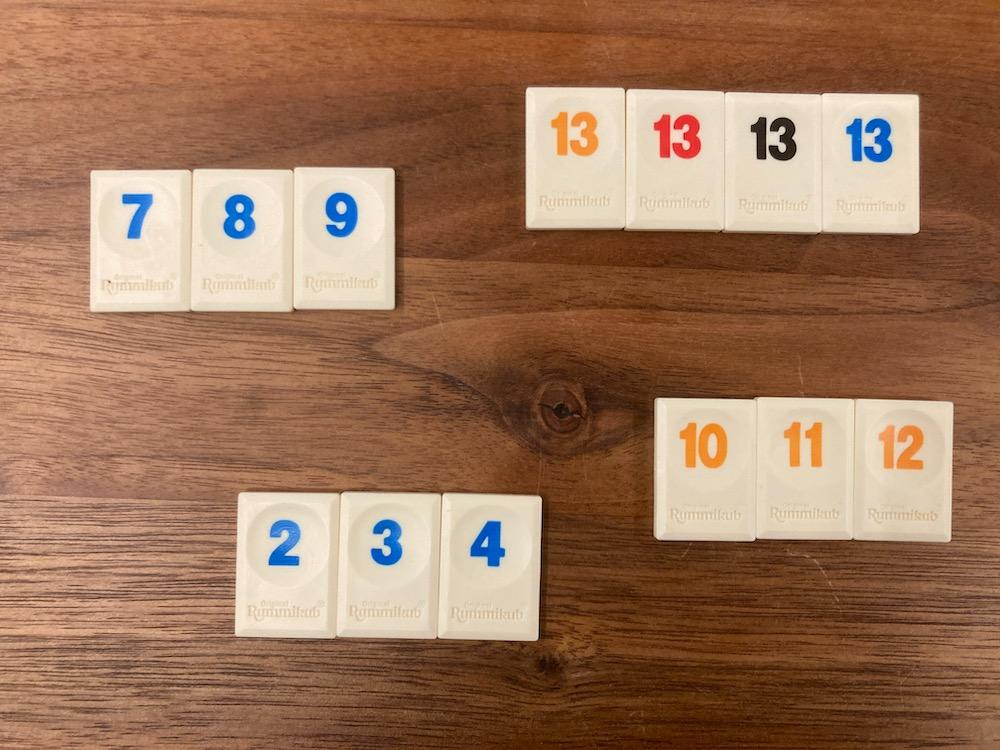black_13: (725, 94, 820, 232)
blue_13: (822, 94, 920, 233)
blue_2: (234, 492, 340, 638)
blue_3: (336, 492, 441, 639)
blue_4: (438, 494, 541, 641)
blue_7: (90, 170, 191, 311)
blue_8: (191, 170, 293, 311)
blue_9: (295, 168, 395, 310)
orange_10: (654, 398, 756, 541)
orange_11: (756, 398, 854, 539)
orange_12: (854, 400, 953, 541)
orange_13: (525, 88, 625, 228)
red_13: (625, 90, 725, 230)
